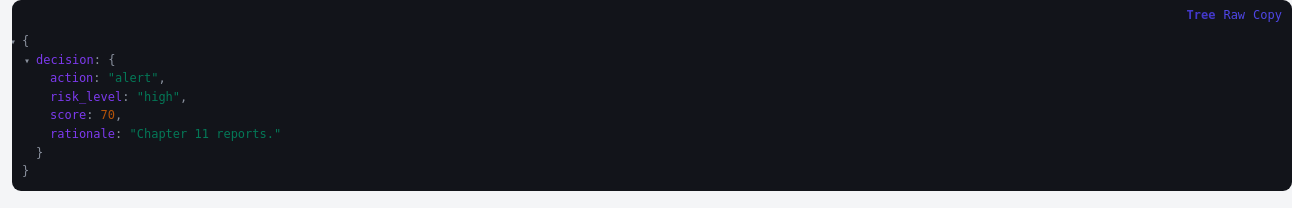
Scenario: a node output reads as a tree, not an escaped string › switches to raw text, which is the unfolded JSON
Click the button "Raw".
click(1234, 15)  # box [1223, 6, 1245, 24]
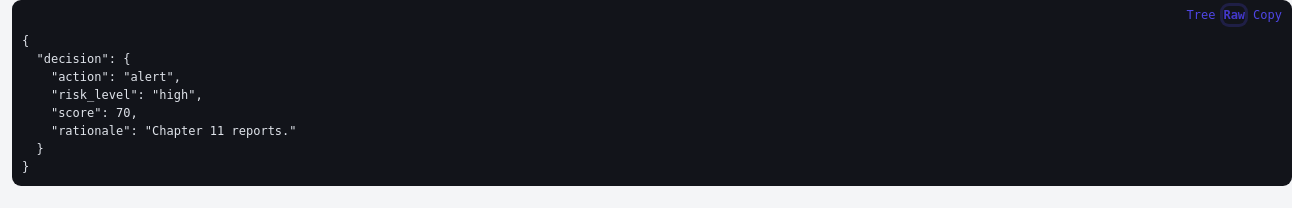
Now the element with test id "json-view" shows "\"action\": \"alert\"", box [22, 34, 296, 174]
Now the element with test id "json-view" no longer shows "\\\""
